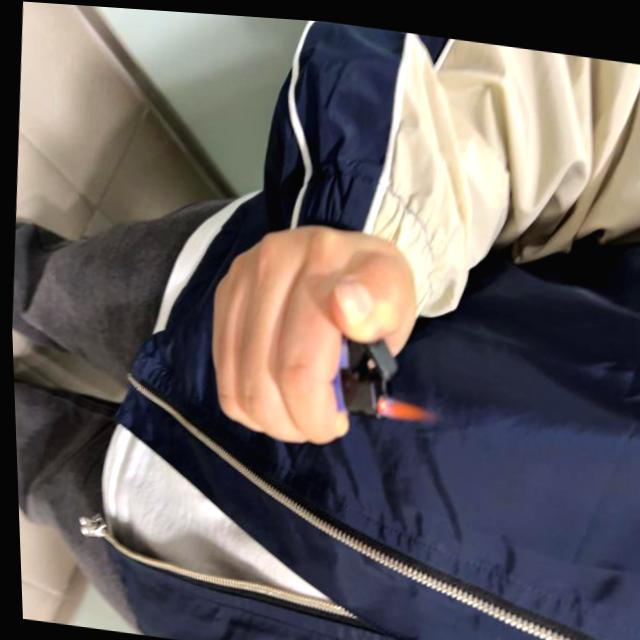Fire: (369, 388, 437, 420)
